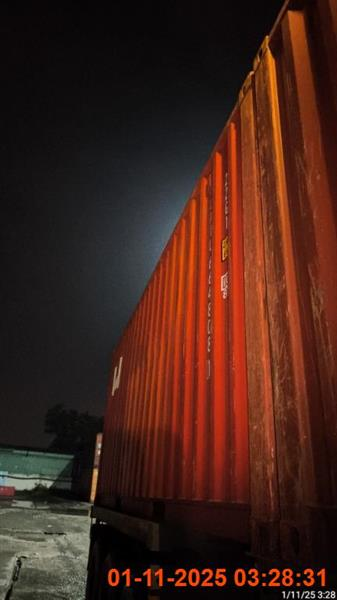broken: (83, 0, 335, 595)
